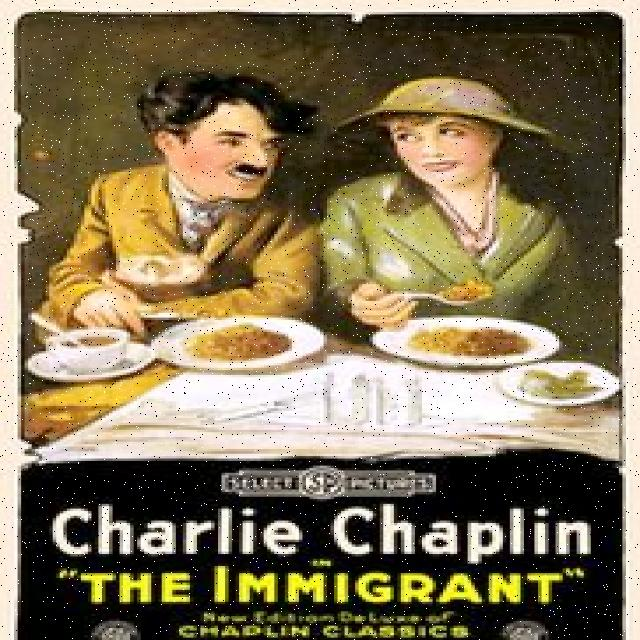movie-judul: (38, 505, 607, 610)
picture: (26, 69, 622, 460)
